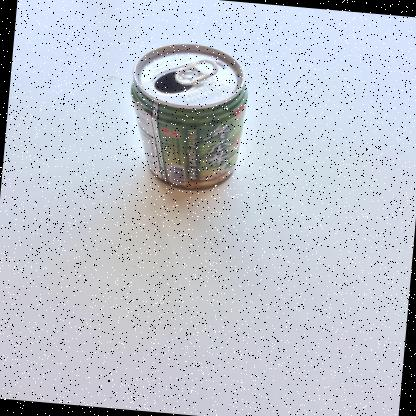Drink can: (131, 44, 248, 191)
Pop tab: (175, 59, 218, 85)
